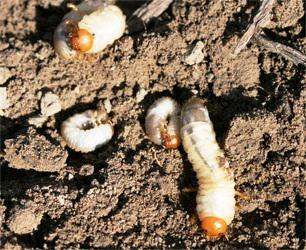grub: (181, 95, 238, 241)
